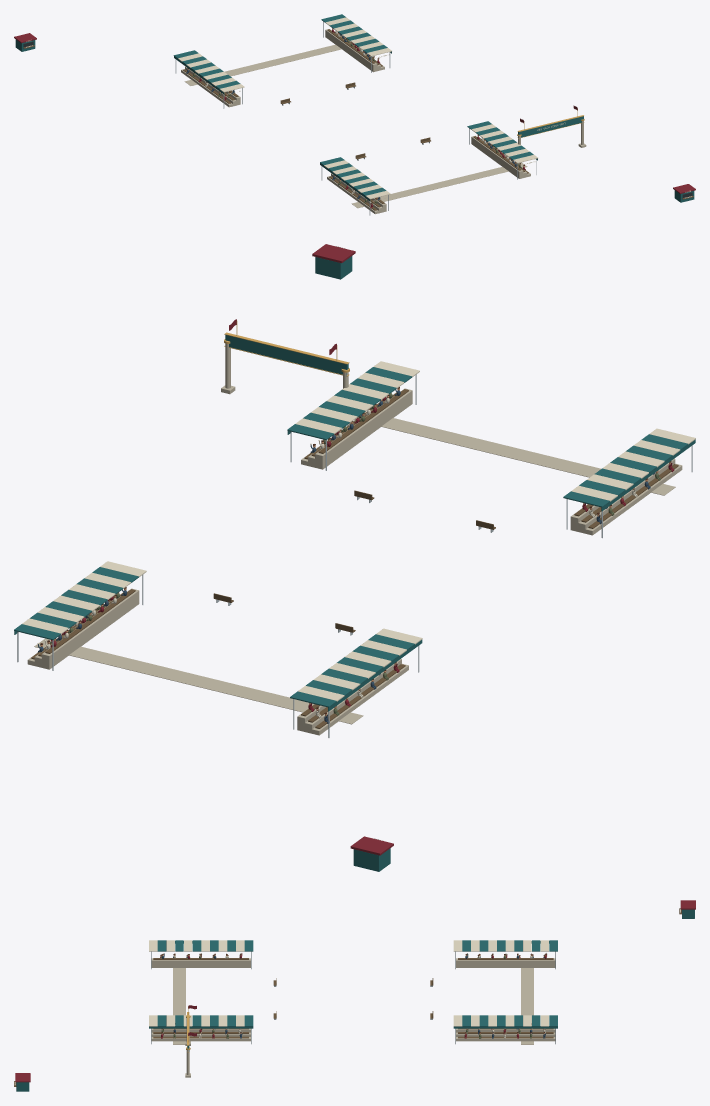
File: stadium-props.glb
The picture shows the model from 3 angles, top to bottom: view 1: azimuth 30°, elevation 25°; view 2: azimuth 150°, elevation 25°; view 3: azimuth 270°, elevation 25°; orthographic projection. The views are drawn at different scales.
Parts seen in each view (by area): view 1: Stadium props / Tribune limestone, Stadium props / Striped canopy cloth, Stadium props / Ivory enamel, Stadium props / Oiled stadium wood, Stadium props / Spectator burgundy; view 2: Stadium props / Tribune limestone, Stadium props / Striped canopy cloth, Stadium props / Ivory enamel, Stadium props / Oiled stadium wood, Stadium props / Spectator burgundy; view 3: Stadium props / Tribune limestone, Stadium props / Striped canopy cloth, Stadium props / Ivory enamel, Stadium props / Oiled stadium wood, Stadium props / Spectator burgundy.
Part boxes in pixels (x1,y1,x2,y2): Stadium props / Tribune limestone: [181, 29, 586, 214]; Stadium props / Striped canopy cloth: [15, 14, 694, 202]; Stadium props / Ivory enamel: [26, 17, 691, 202]; Stadium props / Oiled stadium wood: [23, 29, 693, 210]; Stadium props / Spectator burgundy: [14, 29, 695, 208]; Stadium props / Tribune limestone: [27, 343, 682, 735]; Stadium props / Striped canopy cloth: [14, 256, 695, 871]; Stadium props / Ivory enamel: [22, 246, 695, 840]; Stadium props / Oiled stadium wood: [31, 389, 678, 728]; Stadium props / Spectator burgundy: [50, 244, 674, 855]; Stadium props / Tribune limestone: [151, 958, 555, 1077]; Stadium props / Striped canopy cloth: [16, 909, 694, 1091]; Stadium props / Ivory enamel: [14, 909, 680, 1085]; Stadium props / Oiled stadium wood: [14, 908, 681, 1086]; Stadium props / Spectator burgundy: [15, 900, 695, 1082].
Bounding box in the file's own units: 98.4 × 10.63 × 157.
